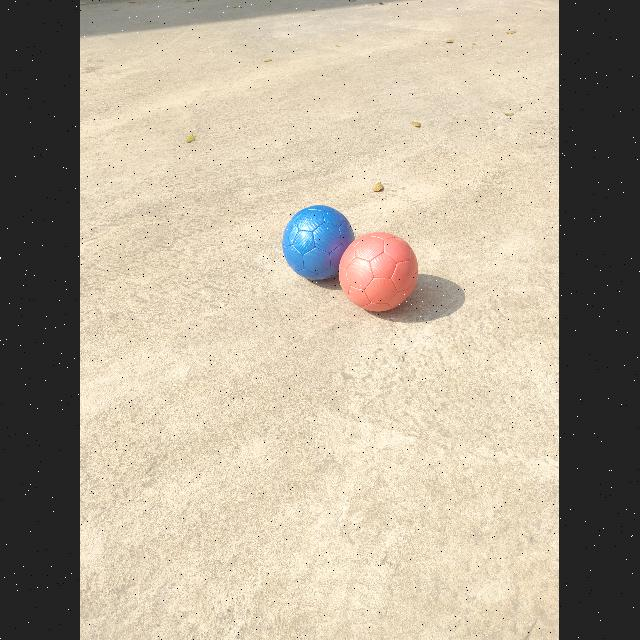B: (283, 205, 356, 281)
R: (339, 232, 419, 312)
